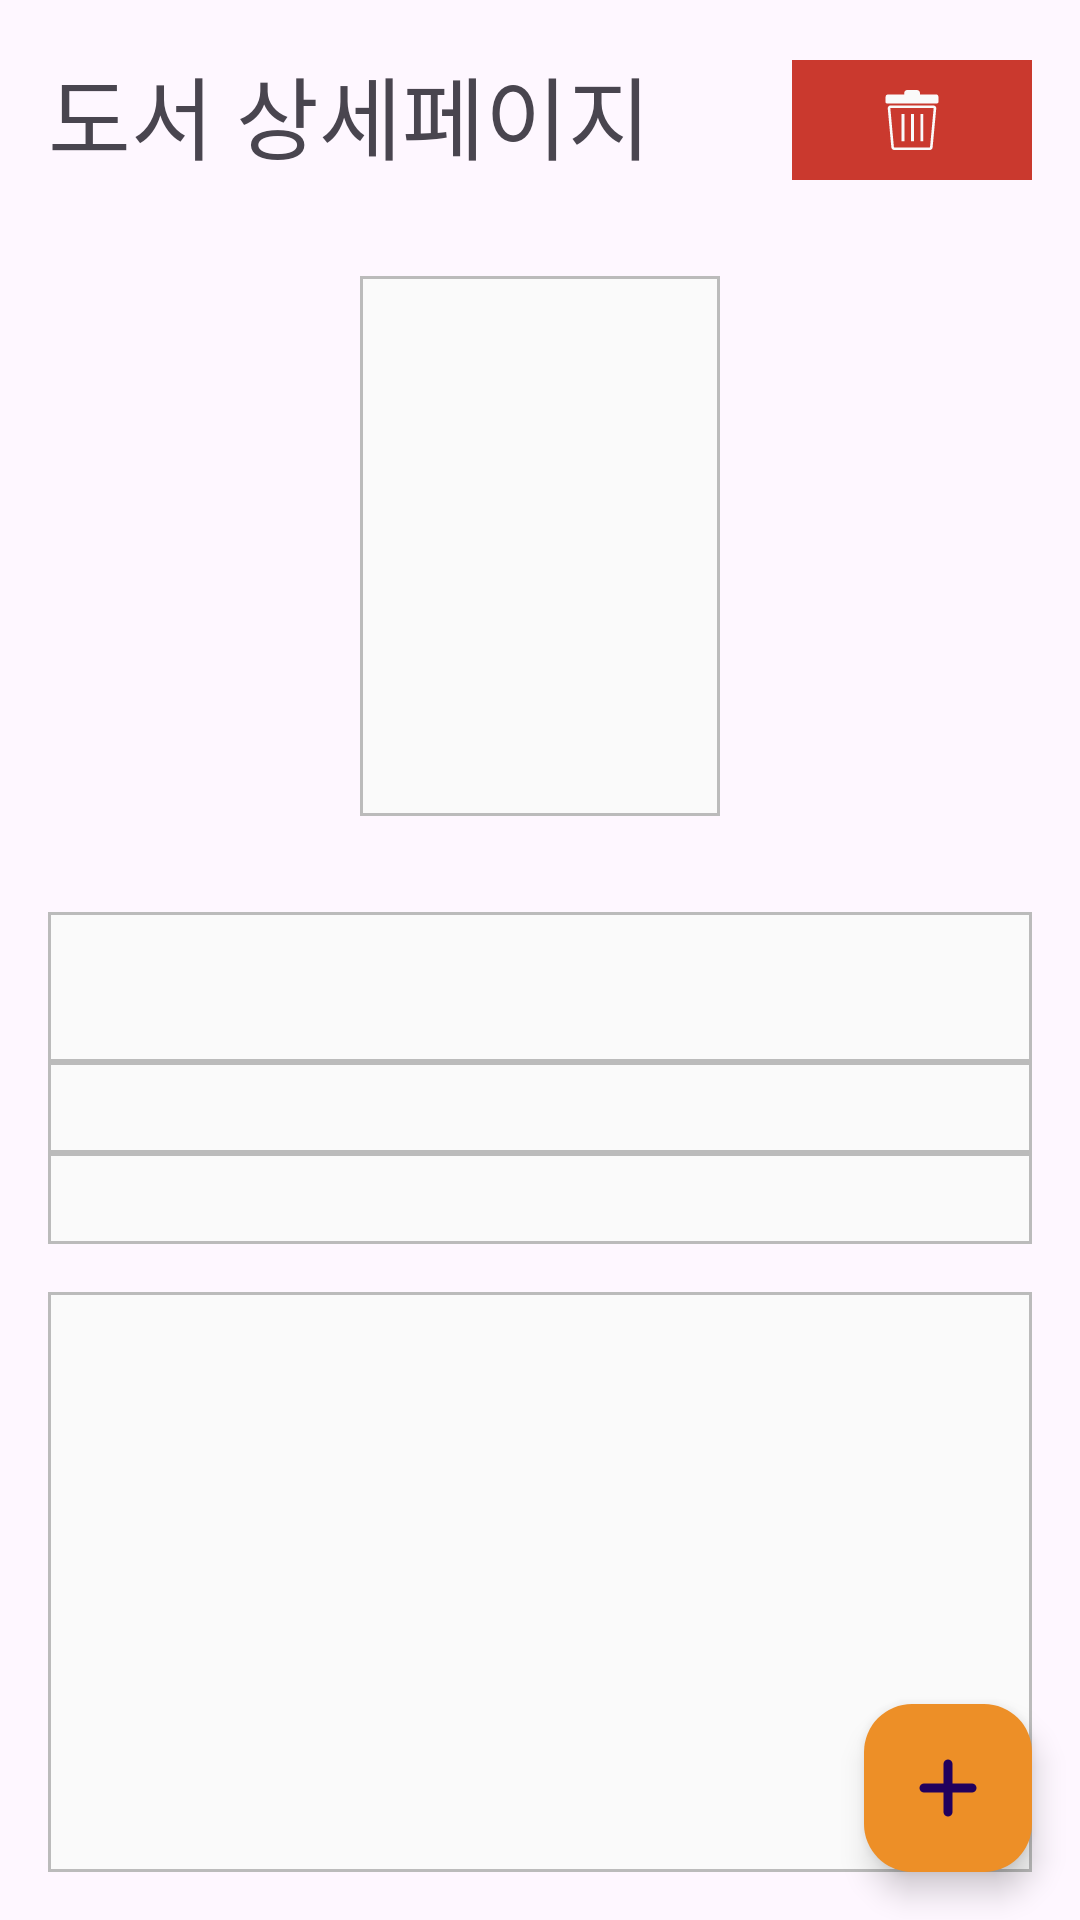

Icons on this 1080w x 1920h Android screen, each with the point to tap as (x,y):
add: (948,1788)
trashcan: (912,120)
